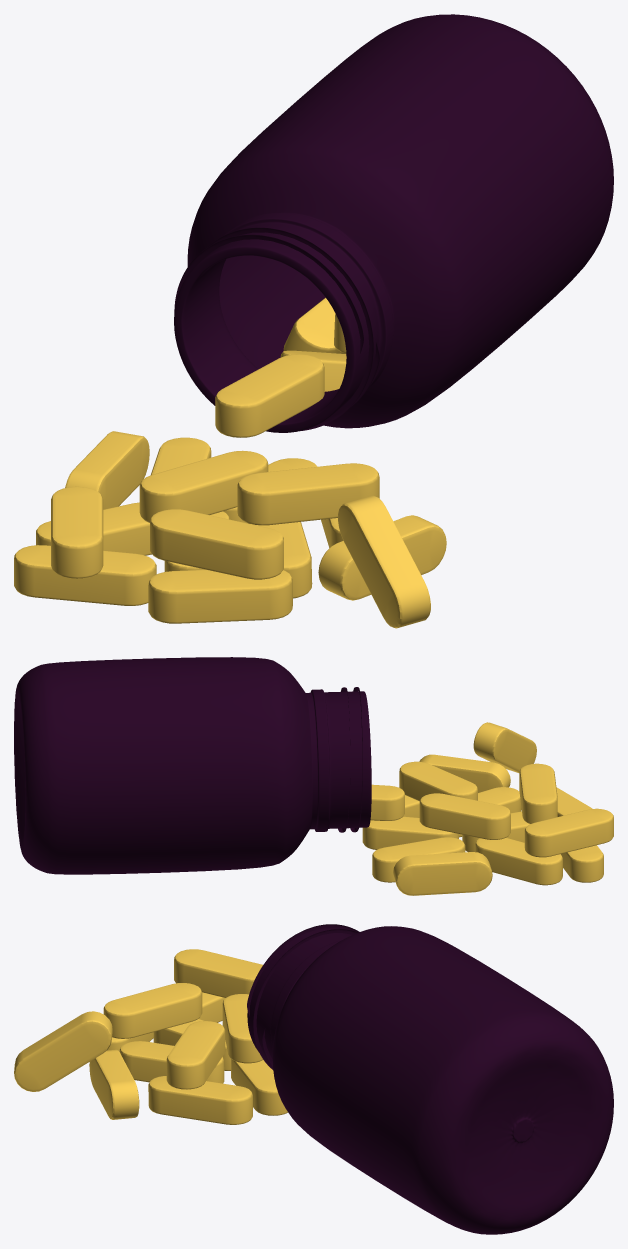
Rendered from pills_bottle.FBX.
3 views of the same model, one above another, from view 1: azimuth 30°, elevation 25°; view 2: azimuth 150°, elevation 25°; view 3: azimuth 270°, elevation 25° (orthographic). The views are drawn at different scales.
Visible parts, largest first — view 1: bottle, polySurface12, polySurface16, polySurface11, polySurface14, polySurface17, polySurface10, polySurface13, polySurface15, polySurface5, polySurface8, polySurface9 (+4 smaller); view 2: bottle, polySurface5, polySurface13, polySurface15, polySurface9, polySurface16, polySurface14, polySurface12, polySurface2, polySurface4, polySurface8, polySurface10 (+4 smaller); view 3: bottle, polySurface16, polySurface12, polySurface3, polySurface14, polySurface15, polySurface8, polySurface6, polySurface2, polySurface13, polySurface7, polySurface10.
Boxes of the visible parts, box(x1,y1,x2,y2) form: bottle: box(174, 14, 613, 432); polySurface12: box(150, 509, 283, 579); polySurface16: box(338, 495, 430, 628); polySurface11: box(148, 569, 292, 623); polySurface14: box(237, 463, 379, 525); polySurface17: box(215, 354, 324, 437); polySurface10: box(14, 545, 156, 605); polySurface13: box(139, 450, 268, 522); polySurface15: box(51, 486, 103, 578); polySurface5: box(65, 431, 149, 509); polySurface8: box(318, 515, 446, 600); polySurface9: box(36, 502, 151, 555); bottle: box(14, 657, 371, 874); polySurface5: box(393, 852, 492, 895); polySurface13: box(419, 793, 510, 839); polySurface15: box(524, 808, 613, 857); polySurface9: box(475, 838, 562, 885); polySurface16: box(473, 722, 536, 772); polySurface14: box(399, 761, 477, 801); polySurface12: box(519, 763, 557, 823); polySurface2: box(362, 816, 458, 849); polySurface4: box(372, 837, 465, 882); polySurface8: box(419, 754, 510, 792); polySurface10: box(561, 845, 603, 882); bottle: box(247, 924, 613, 1234); polySurface16: box(14, 1011, 112, 1091); polySurface12: box(103, 983, 202, 1038); polySurface3: box(148, 1076, 252, 1124); polySurface14: box(166, 1021, 225, 1089); polySurface15: box(174, 949, 262, 997); polySurface8: box(89, 1049, 139, 1119); polySurface6: box(119, 1041, 224, 1083); polySurface2: box(231, 1059, 287, 1115); polySurface13: box(222, 994, 263, 1063); polySurface7: box(153, 1019, 230, 1070); polySurface10: box(198, 992, 225, 1022).
Bounding box in the file's own units: 74.23 × 28.34 × 69.73.
